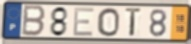8: (49, 5, 69, 38), (149, 8, 167, 39)
B: (20, 4, 47, 38)
E: (72, 7, 96, 38)
O: (96, 7, 121, 38)
T: (124, 7, 144, 39)
